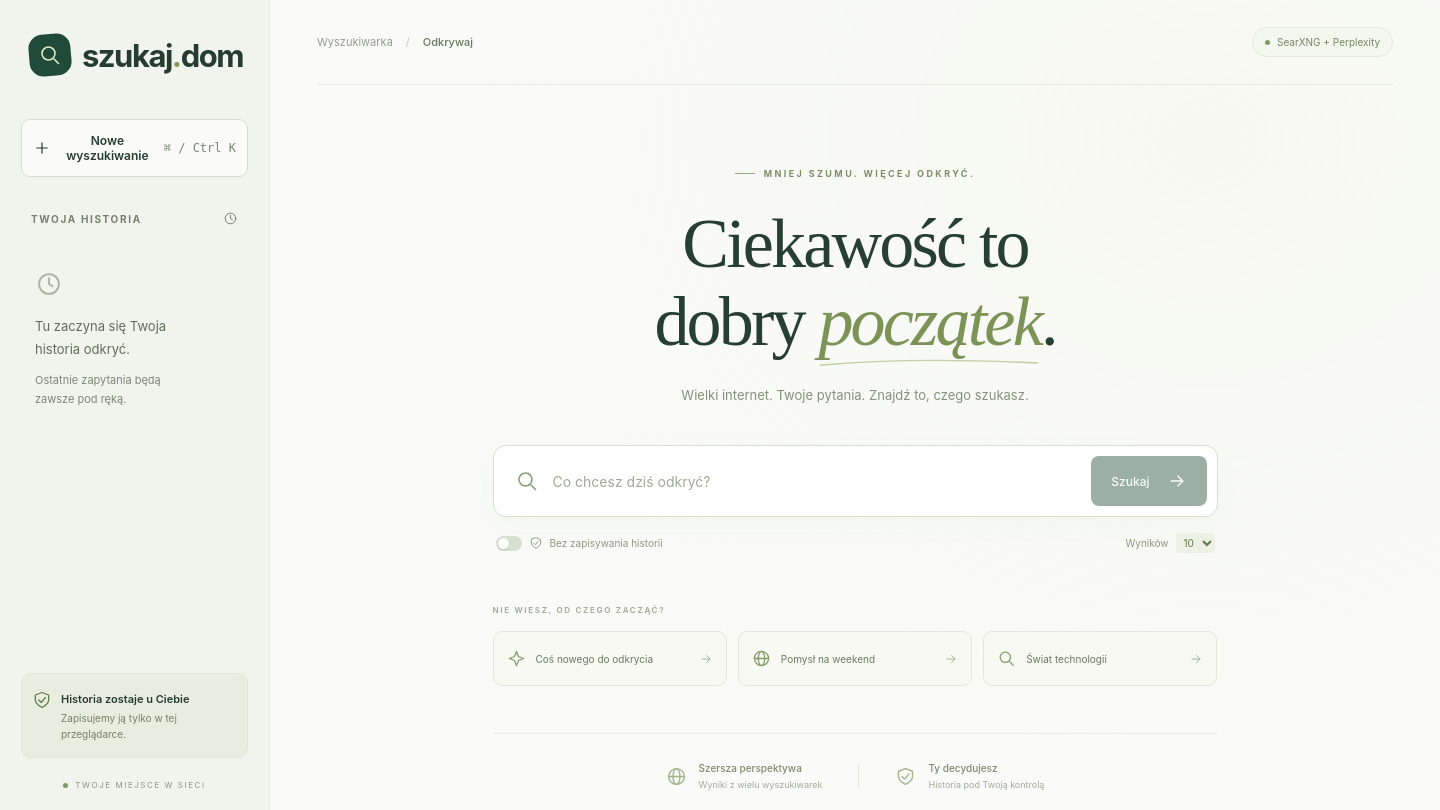
Test: search application › renders a hostname consisting only of www. without crashing
In the field named "Czego szukasz?": (815, 481) [552,465,1077,498], type "Pomorze"
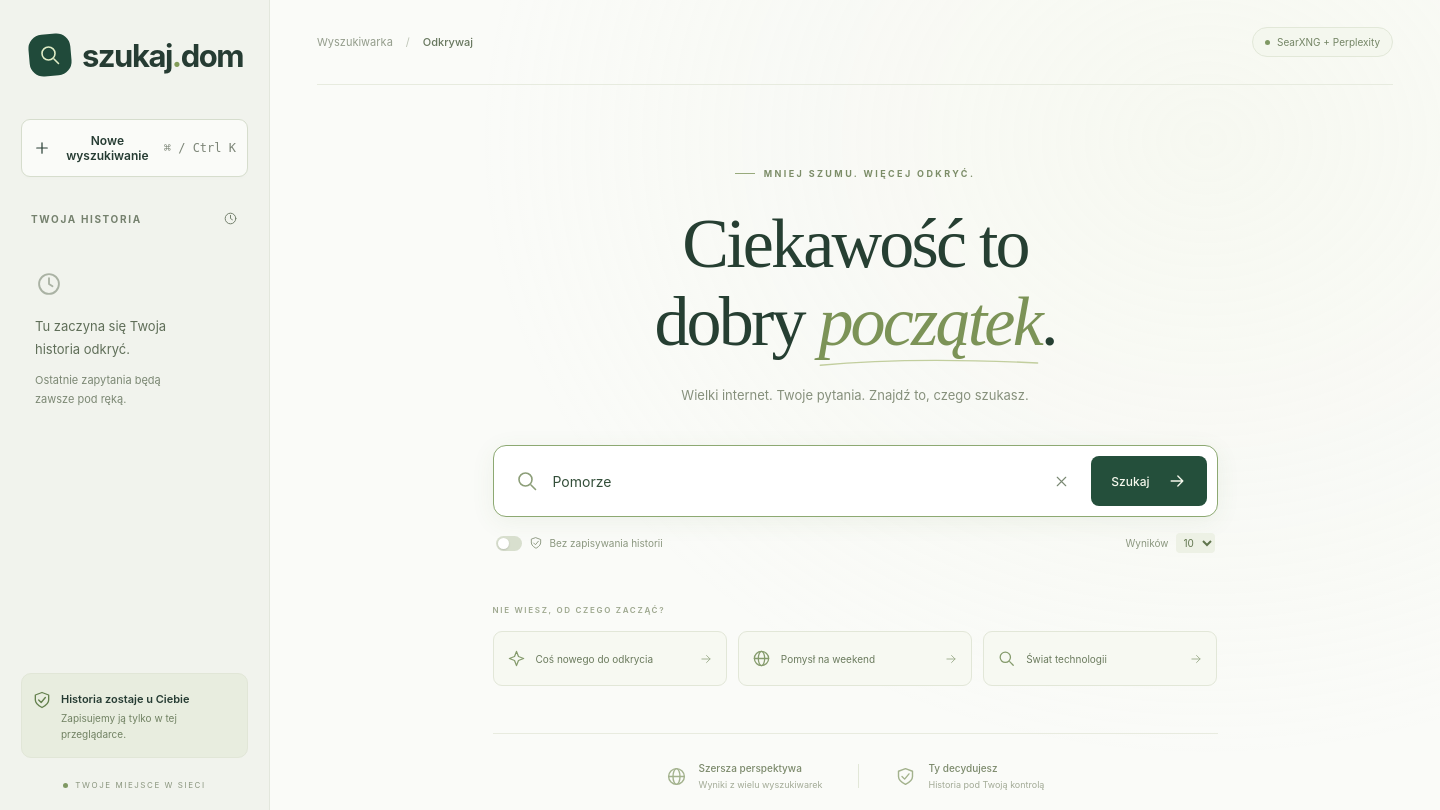
Click the button "Szukaj": (1149, 481) [1091,456,1206,506]
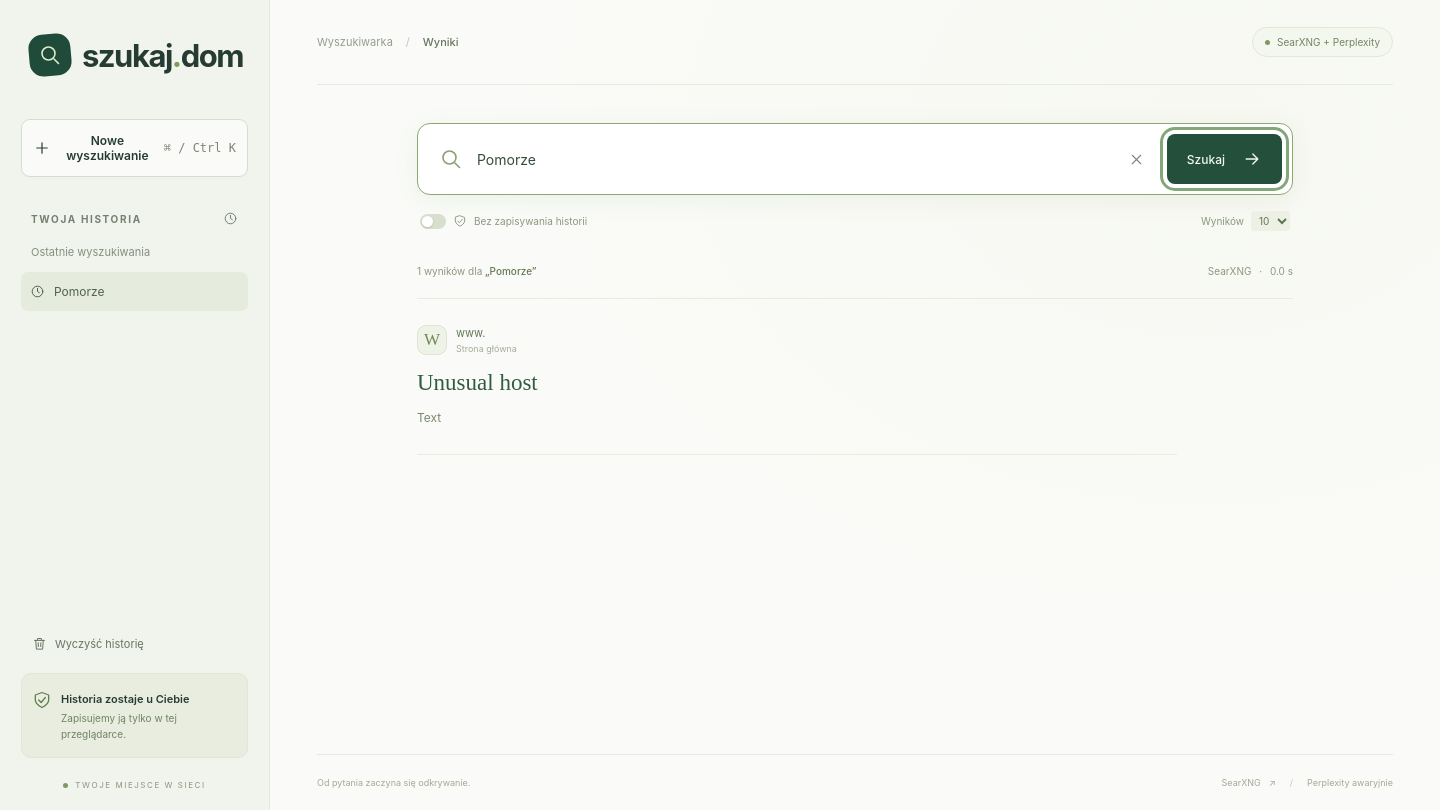
Check: the text "www." is shown, box [456,326,485,340]
